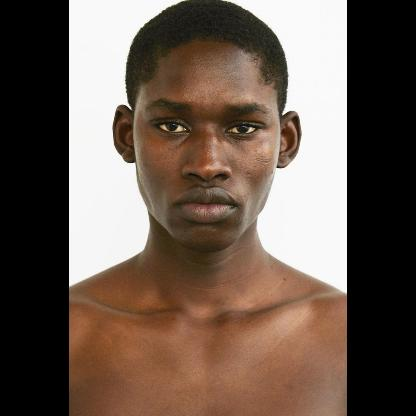Male: (112, 42, 300, 250)
